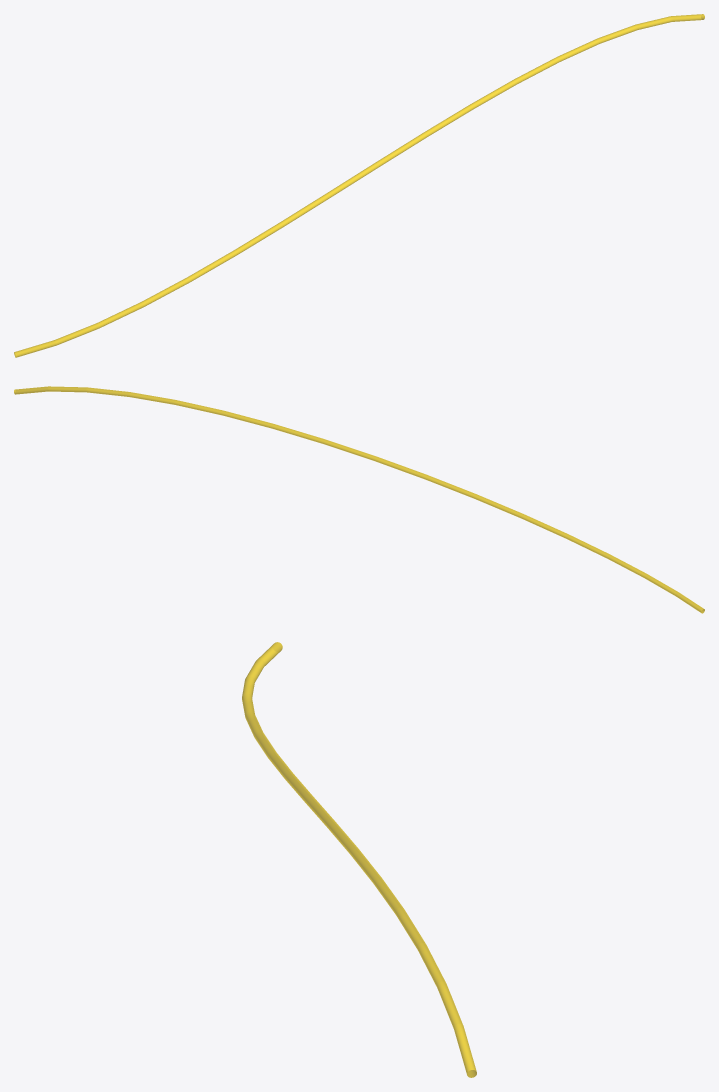
The model's file is Event_84804159_track_60.fbx.
3 views of the same model, one above another, from view 1: azimuth 30°, elevation 25°; view 2: azimuth 150°, elevation 25°; view 3: azimuth 270°, elevation 25° (orthographic). The views are drawn at different scales.
Visible parts, largest first — view 1: Model; view 2: Model; view 3: Model.
Boxes of the visible parts, bbox=[...] form: Model: bbox=[14, 14, 704, 357]; Model: bbox=[14, 386, 704, 613]; Model: bbox=[242, 642, 476, 1077].
Bounding box in the file's own units: 5.79 × 1.01 × 0.9194.
